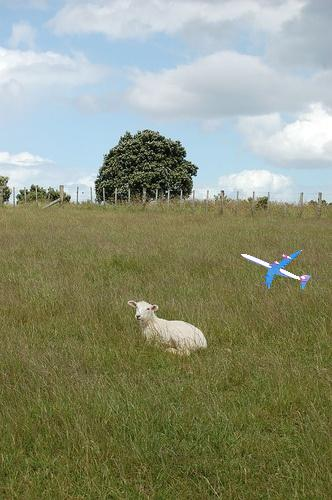tampered: (242, 251, 311, 289)
